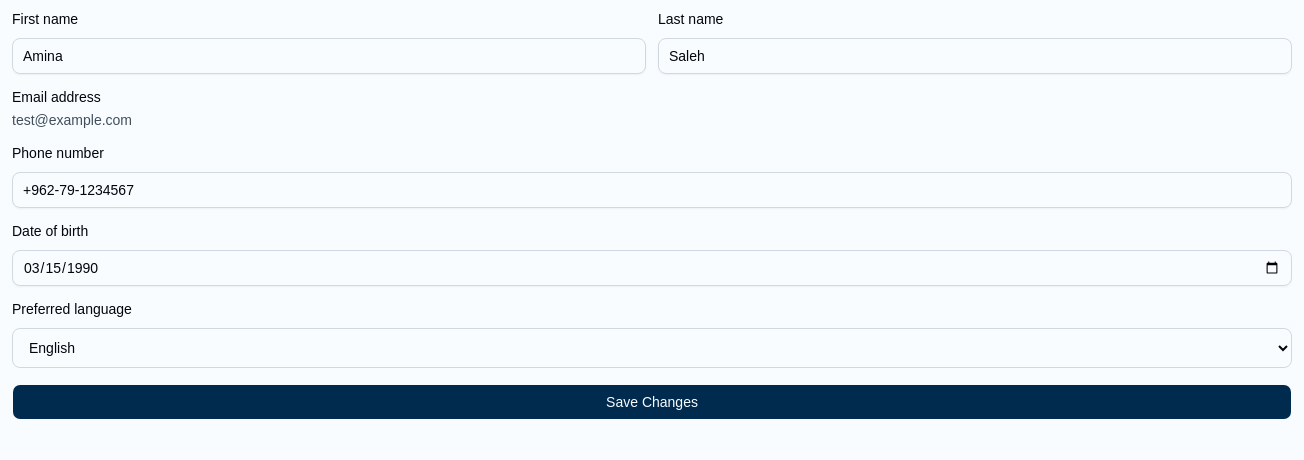
Test case: ProfileForm field rendering and validation › shows invalid phone error on bad phone number (PF-005)
Replace the text in the field labelled "Phone number" with "abc" at (652, 190), box 12,172 -> 1292,208
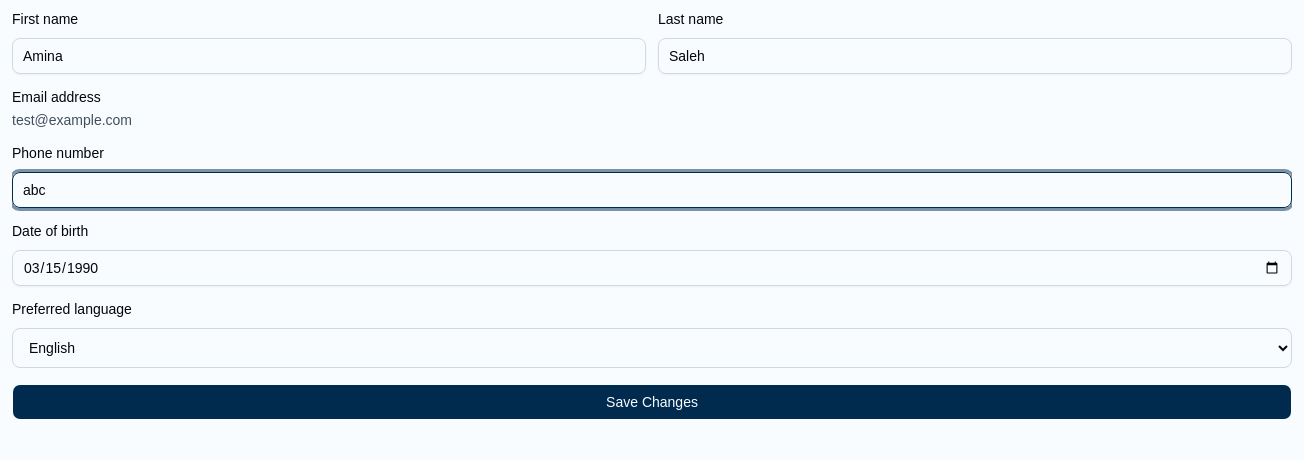
Click the button "Save Changes".
click(652, 402)  # box 12,384 -> 1292,420
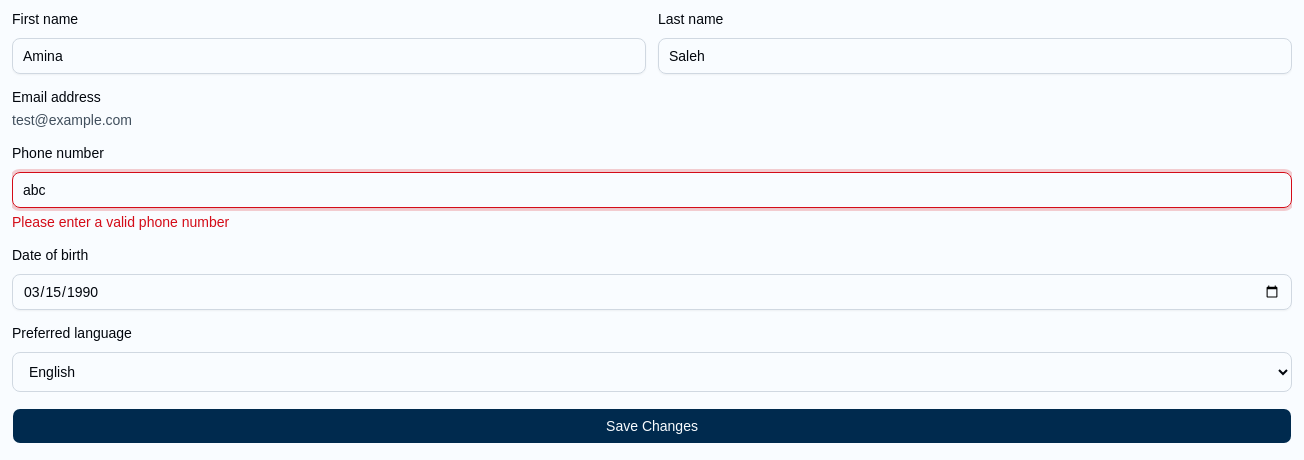
Expected: the text "Please enter a valid phone number" is shown, 12,214 -> 229,230
